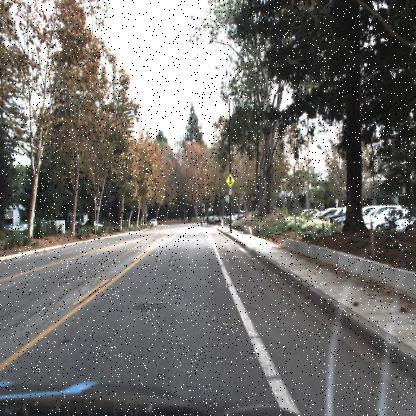car: (148, 216, 158, 228)
